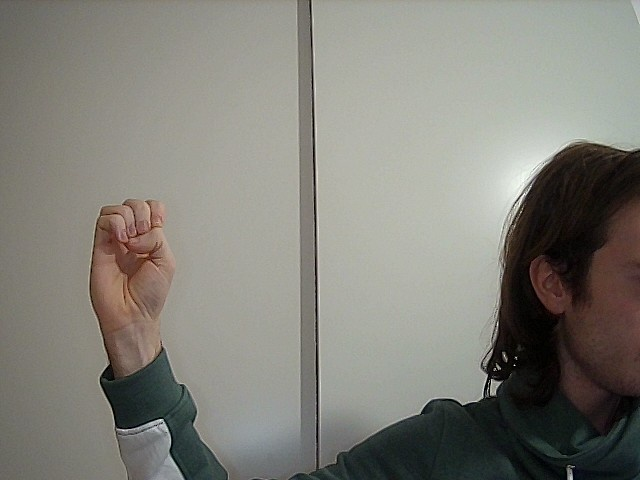e: (82, 195, 195, 319)
